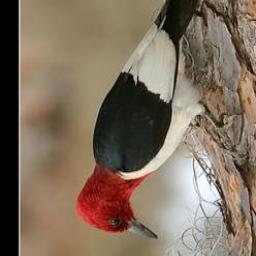Woodpecker: (72, 0, 245, 246)
